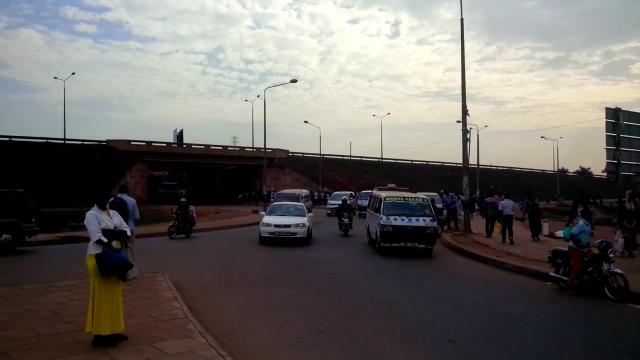car: (258, 201, 315, 246), (0, 189, 39, 253), (326, 190, 356, 217), (415, 192, 443, 217), (356, 190, 376, 218)
motorcycle: (548, 237, 630, 301), (167, 197, 196, 238), (334, 200, 354, 239)
van: (365, 183, 441, 256), (272, 188, 313, 214)
